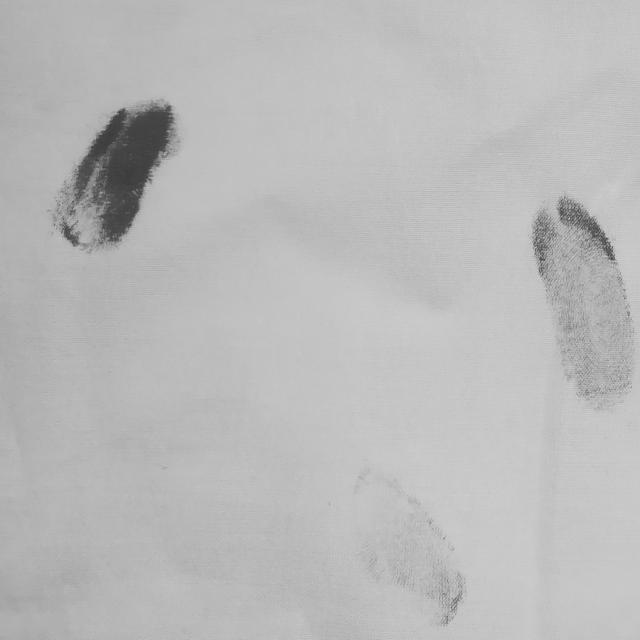Stain: (534, 196, 635, 410), (52, 99, 179, 251), (355, 469, 465, 626)
